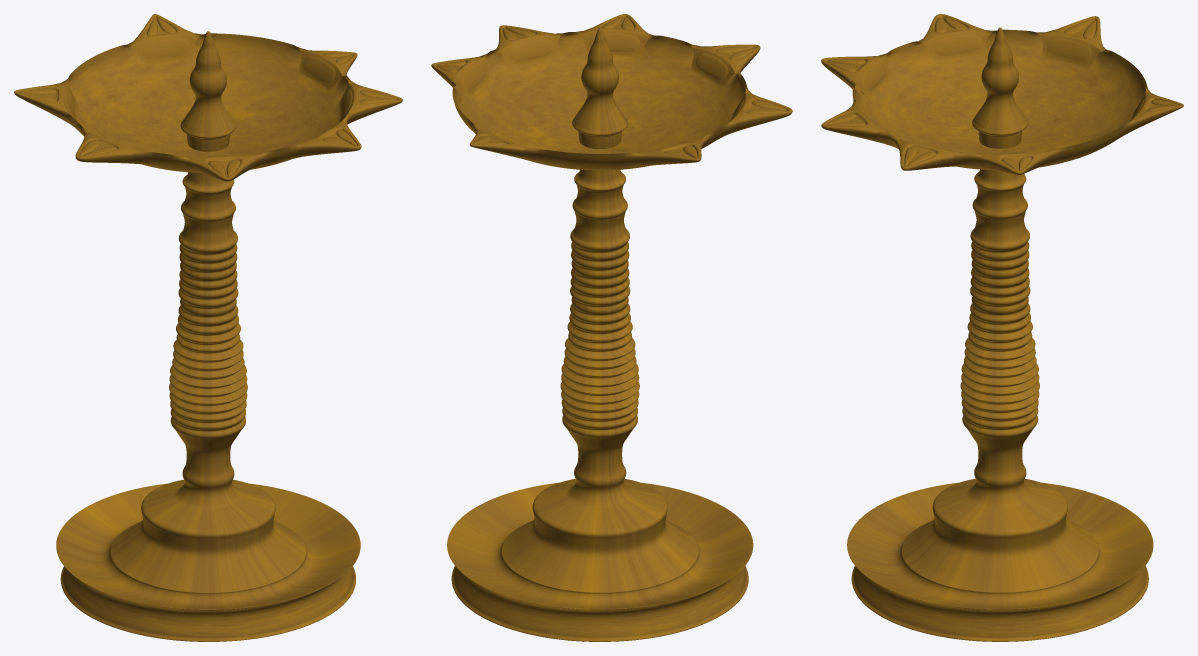
Rendered from brass_diya.glb.
3 views of the same model, side by side, from view 1: azimuth 30°, elevation 25°; view 2: azimuth 150°, elevation 25°; view 3: azimuth 270°, elevation 25° (orthographic).
Visible parts, largest first — view 1: Cylinder, Sphere; view 2: Cylinder, Sphere; view 3: Cylinder, Sphere.
Boxes of the visible parts, left/top/right/bottom form: Cylinder: left=56, top=31, right=360, bottom=641; Sphere: left=14, top=14, right=402, bottom=181; Cylinder: left=447, top=28, right=753, bottom=641; Sphere: left=431, top=14, right=792, bottom=170; Cylinder: left=847, top=27, right=1153, bottom=641; Sphere: left=821, top=14, right=1183, bottom=174.
Bounding box in the file's own units: 2.45 × 4.04 × 2.4.
1 material, 1 textured.
